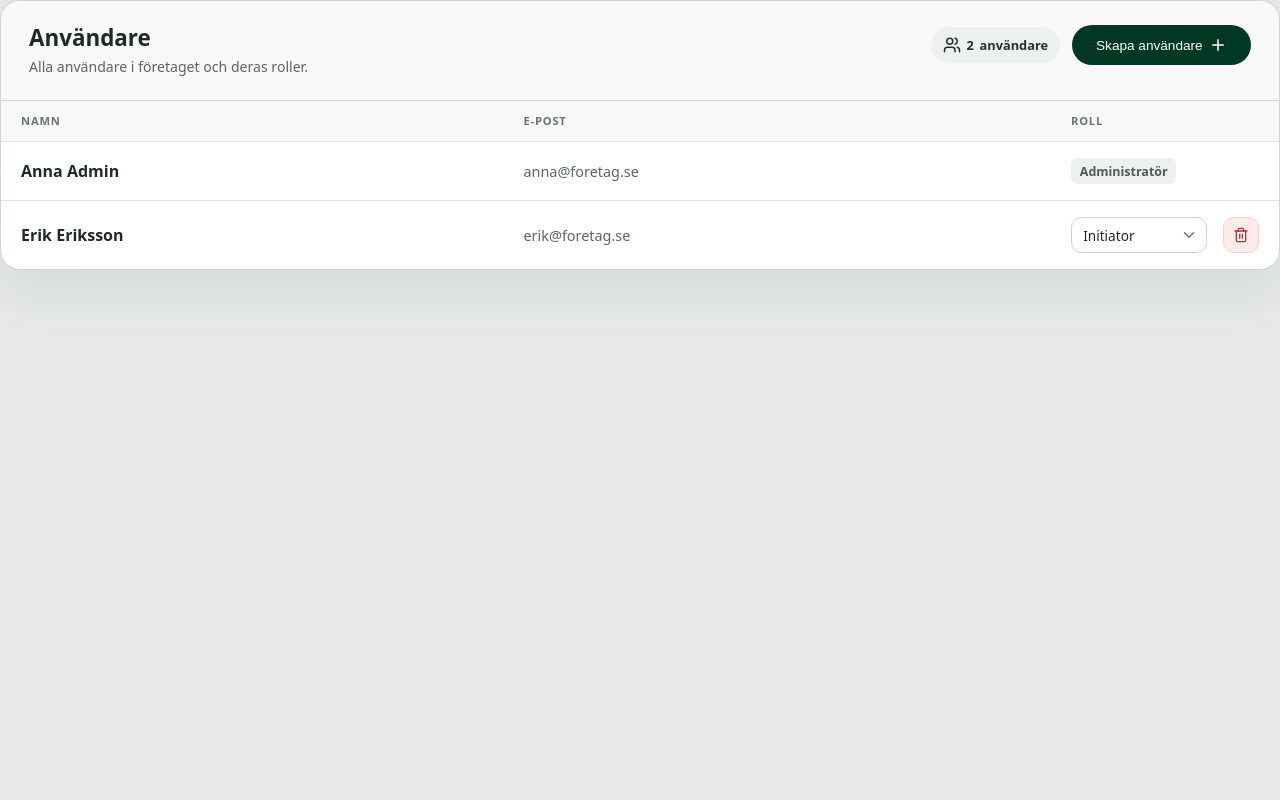
Test case: UserList › deleting › asks for confirmation and does nothing when the user keeps the account
The width and height of the screenshot is (1280, 800).
Click the button named "Ta bort Erik Eriksson" at (1241, 235), box x1=1223 y1=217 x2=1259 y2=253
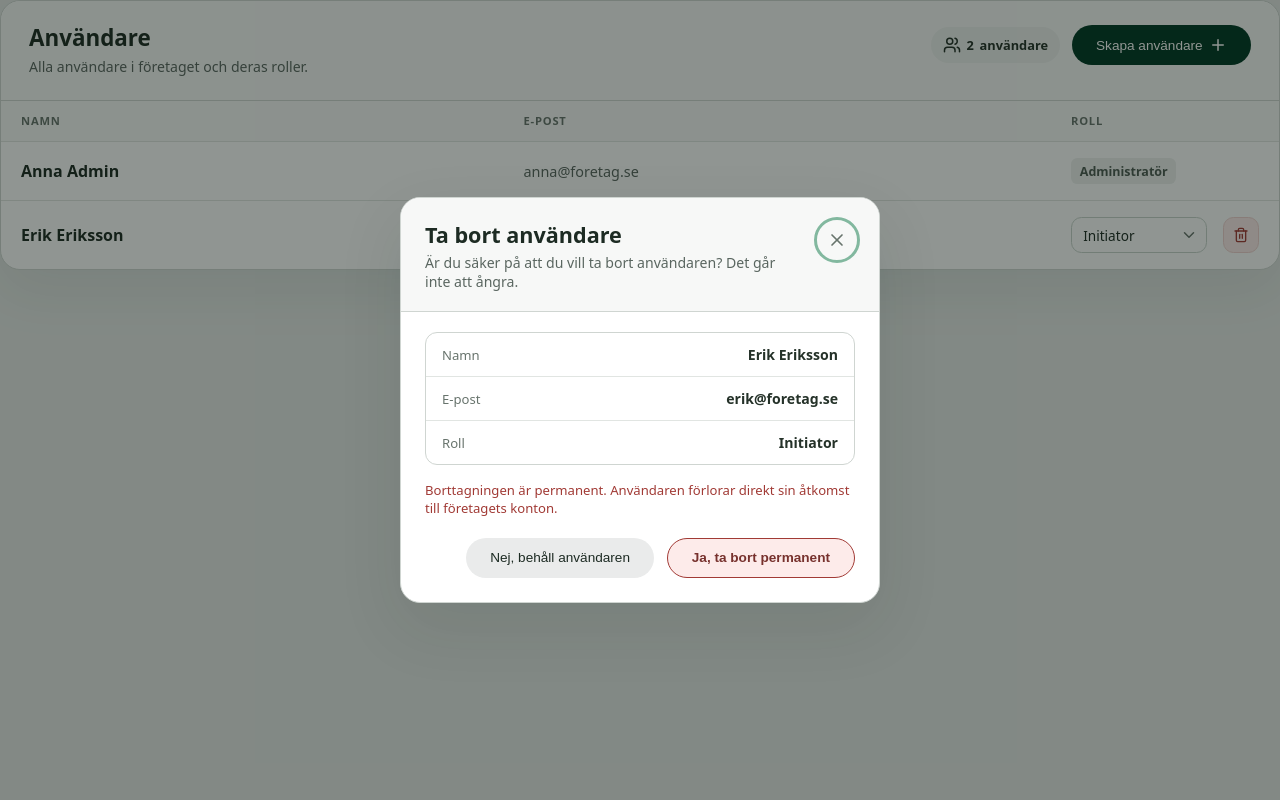
Expected: the text "Borttagningen är permanent" is shown, x1=425 y1=481 x2=849 y2=517
Expected: the text "erik@foretag.se" is shown, x1=726 y1=389 x2=838 y2=408
Click the button "Nej, behåll användaren" at (560, 558), box x1=466 y1=538 x2=654 y2=578
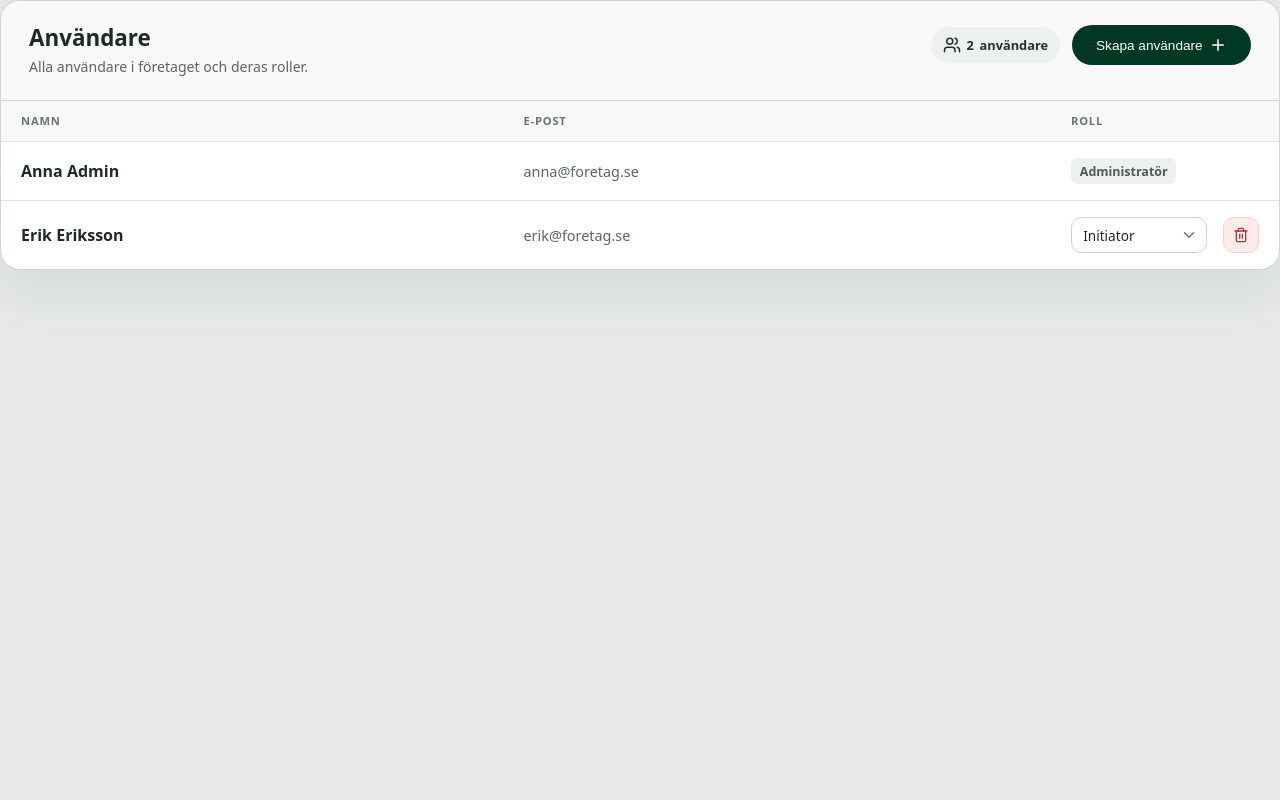
Expected: the dialog is gone
